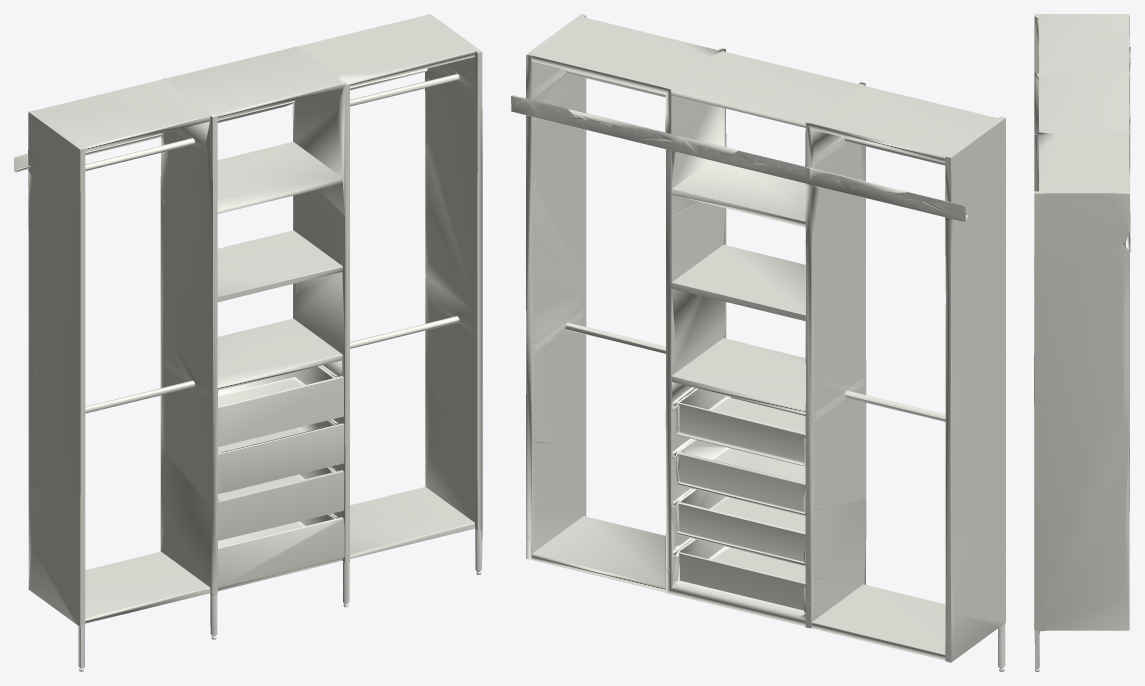
The model's file is aurdal_wardrobe_combination_white.glb.
3 views of the same model, side by side, from view 1: azimuth 30°, elevation 25°; view 2: azimuth 150°, elevation 25°; view 3: azimuth 270°, elevation 25° (orthographic). The views are drawn at different scales.
Parts seen in each view (by area): view 1: ProcessedMeshNode; view 2: ProcessedMeshNode; view 3: ProcessedMeshNode.
Boxes of the visible parts, x1,y1,x2,y2 form: ProcessedMeshNode: (14,14,482,671); ProcessedMeshNode: (511,14,1005,671); ProcessedMeshNode: (1034,14,1130,671).
Bounding box in the file's own units: 1.9 × 2.22 × 0.4059.
Materials: 2 (2 with a texture image).
